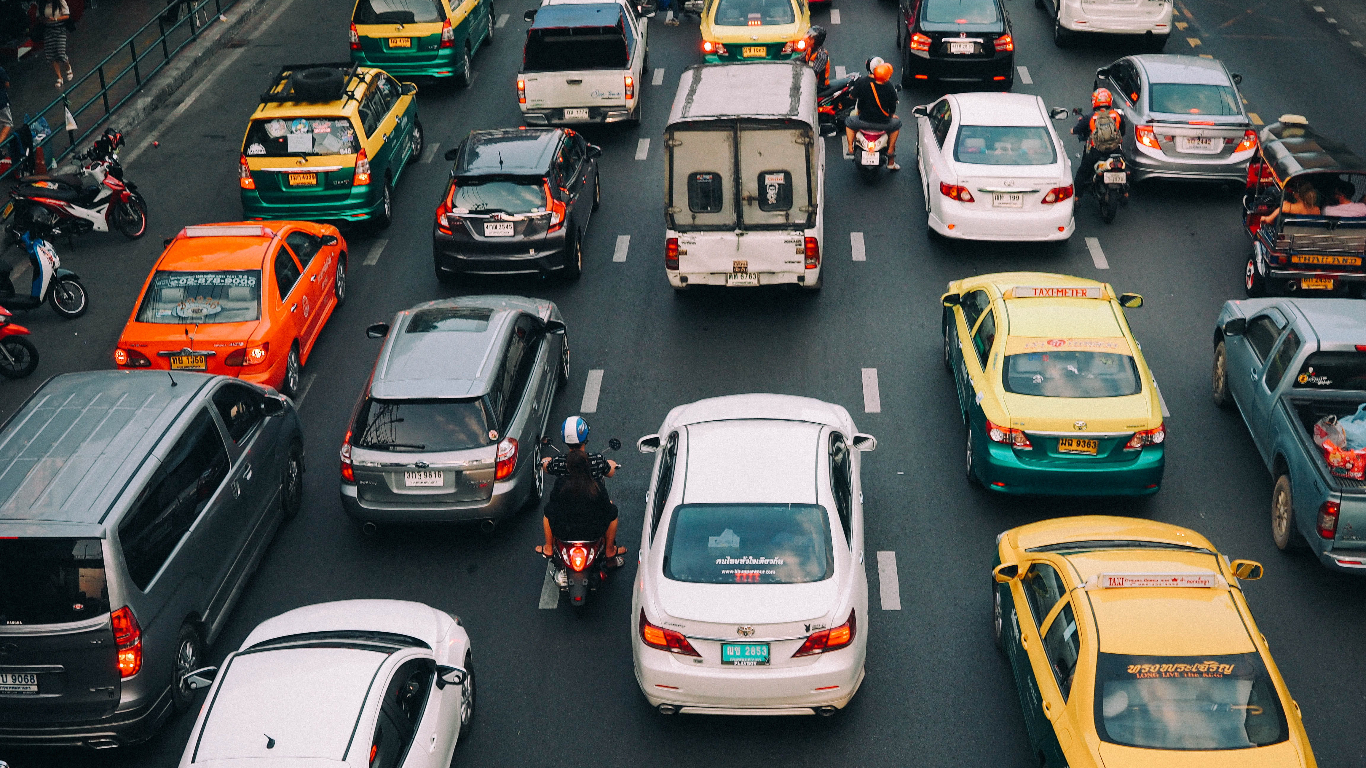Car: (1, 364, 306, 757), (994, 515, 1320, 768), (631, 392, 879, 723), (339, 294, 573, 541), (939, 270, 1177, 503), (177, 600, 477, 768), (113, 212, 345, 398), (1216, 297, 1366, 575), (664, 53, 827, 293), (234, 62, 424, 233), (432, 122, 603, 283), (913, 93, 1080, 244), (1095, 52, 1260, 193), (513, 1, 651, 126), (320, 1, 499, 88), (897, 3, 1024, 89)
